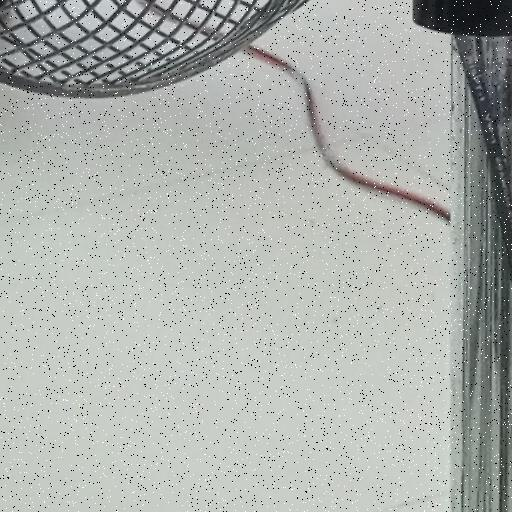Fan: (0, 0, 512, 187)
